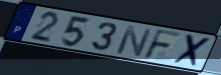2: (27, 10, 60, 44)
3: (89, 22, 120, 52)
5: (58, 14, 93, 48)
F: (141, 28, 184, 62)
N: (114, 24, 154, 59)
X: (169, 33, 214, 70)
